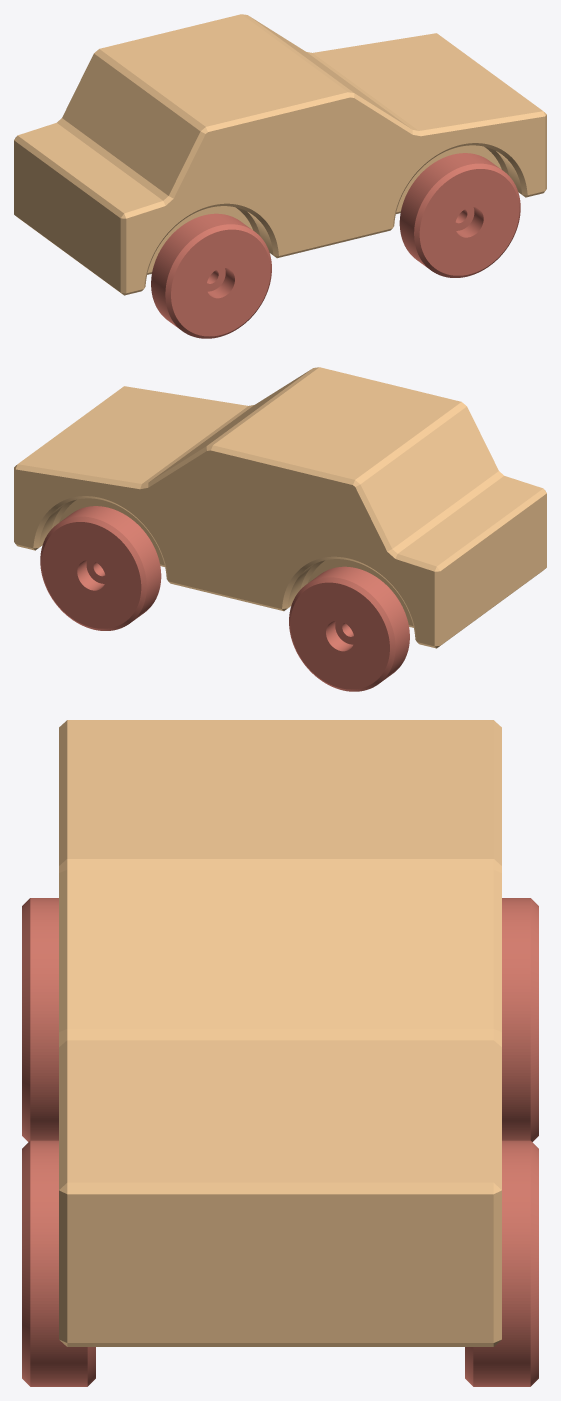
The model's file is car.gltf.
The picture shows the model from 3 angles, top to bottom: view 1: azimuth 30°, elevation 25°; view 2: azimuth 150°, elevation 25°; view 3: azimuth 270°, elevation 25°; orthographic projection. The views are drawn at different scales.
Visible parts, largest first — view 1: car.chassis, car.rear_axle.left_wheel, car.front_axle.left_wheel; view 2: car.chassis, car.rear_axle.right_wheel, car.front_axle.right_wheel; view 3: car.chassis, car.front_axle.left_wheel, car.front_axle.right_wheel, car.rear_axle.left_wheel, car.rear_axle.right_wheel.
Boxes of the visible parts, x1,y1,x2,y2 form: car.chassis: (14, 14, 546, 295); car.rear_axle.left_wheel: (151, 213, 271, 338); car.front_axle.left_wheel: (399, 153, 520, 277); car.chassis: (14, 367, 546, 648); car.rear_axle.right_wheel: (289, 566, 409, 691); car.front_axle.right_wheel: (40, 506, 161, 630); car.chassis: (59, 720, 501, 1346); car.front_axle.left_wheel: (22, 1140, 95, 1386); car.front_axle.right_wheel: (465, 1140, 538, 1386); car.rear_axle.left_wheel: (22, 898, 58, 1141); car.rear_axle.right_wheel: (502, 898, 538, 1141).
Bounding box in the file's own units: 0.12 × 0.055 × 0.063.
